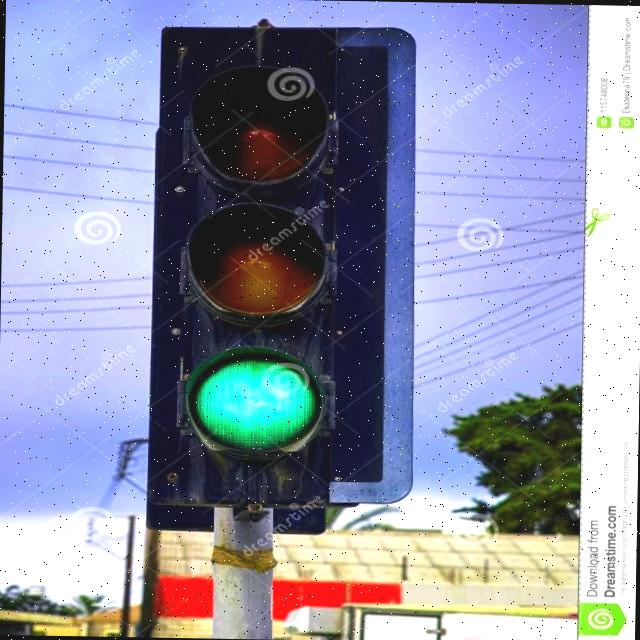Zielone swiatlo: (153, 28, 390, 484)
